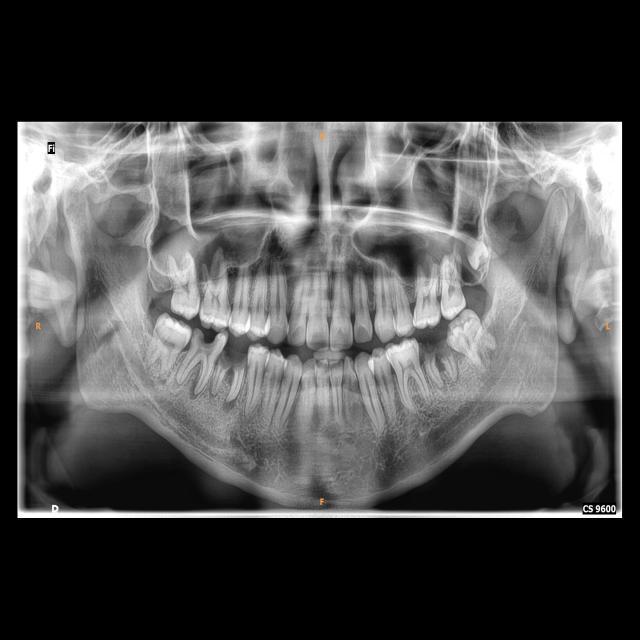dentin-curugu: (194, 327, 222, 354)
kirik: (421, 339, 454, 364), (219, 350, 250, 373)
